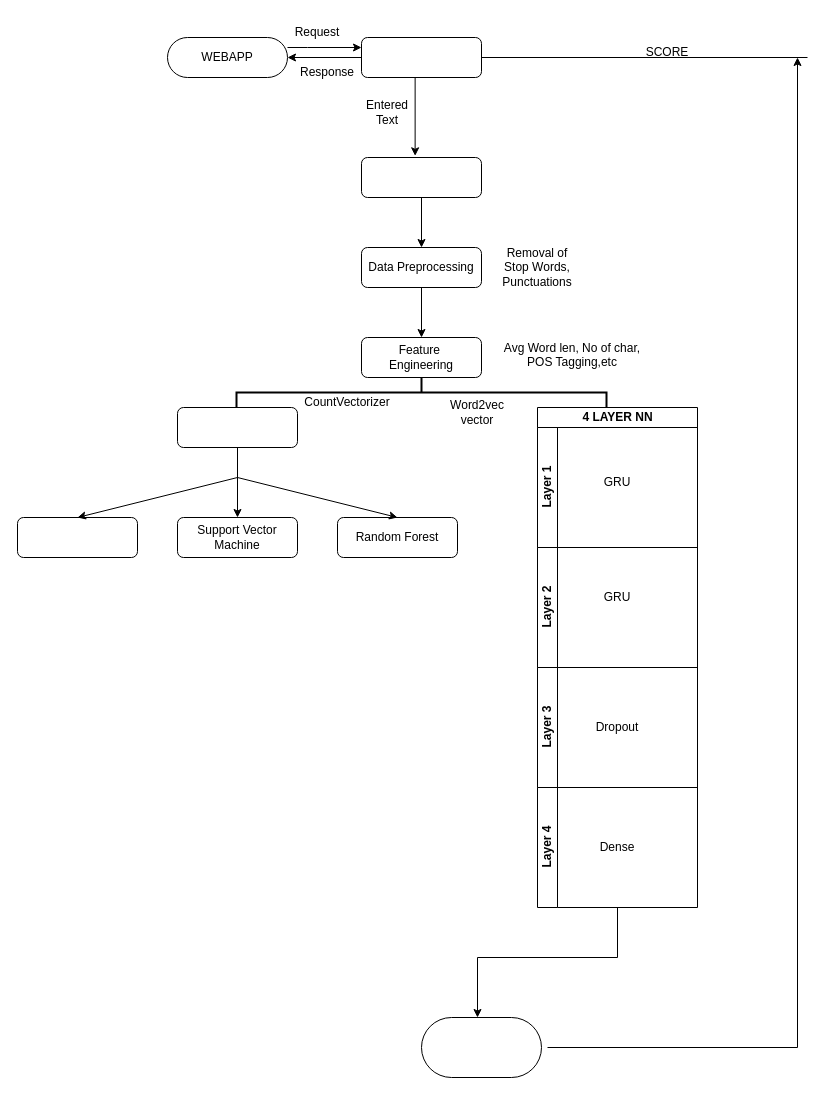
The diagram is 826 pixels wide and 1095 high, and some of its shapes have lost their labels. Each missing label, with the centre of its shape:
Essay: pixel 421 177
Linear Regression: pixel 77 537
Machine Learning: pixel 237 427
OUTPUT (Score out of 10): pixel 481 1047
SERVER: pixel 421 57
